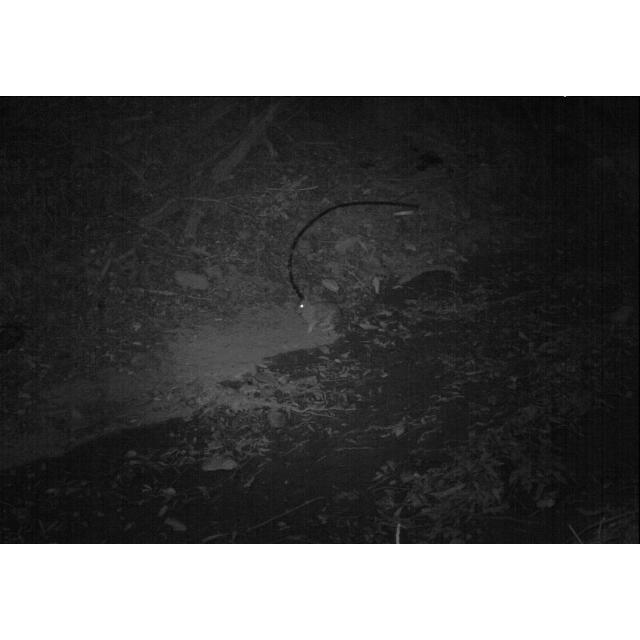animals: (296, 282, 346, 338)
